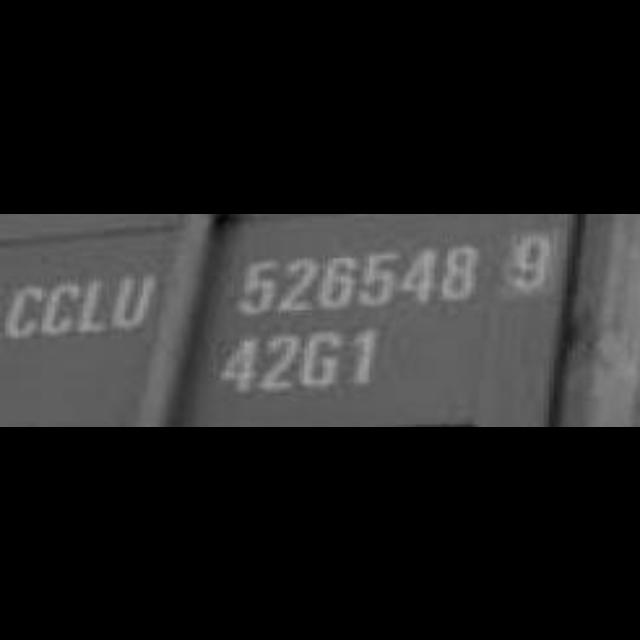1: (345, 323, 383, 391)
2: (263, 328, 301, 398), (280, 252, 320, 318)
4: (217, 329, 260, 396), (401, 242, 435, 304)
5: (237, 258, 279, 314), (361, 246, 397, 304)
6: (322, 250, 360, 316)
8: (436, 238, 479, 304)
9: (511, 228, 557, 298)
c: (1, 282, 47, 344), (38, 276, 84, 338)
g: (301, 324, 345, 396)
l: (73, 275, 113, 337)
u: (110, 272, 158, 326)
